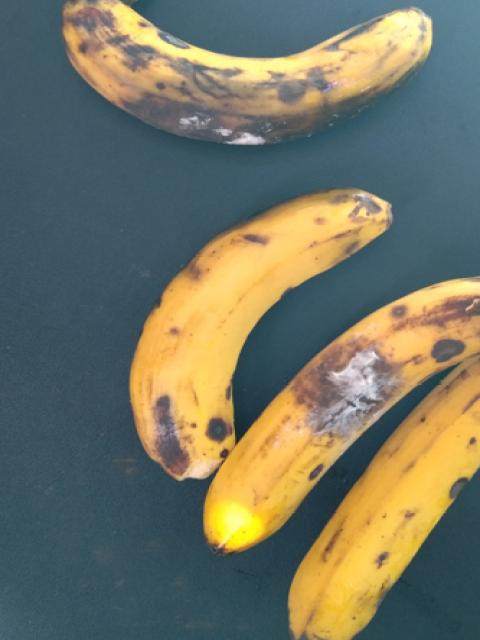overripe: (106, 179, 411, 473), (192, 269, 477, 536), (269, 347, 479, 637)
rotten: (47, 0, 444, 152)
